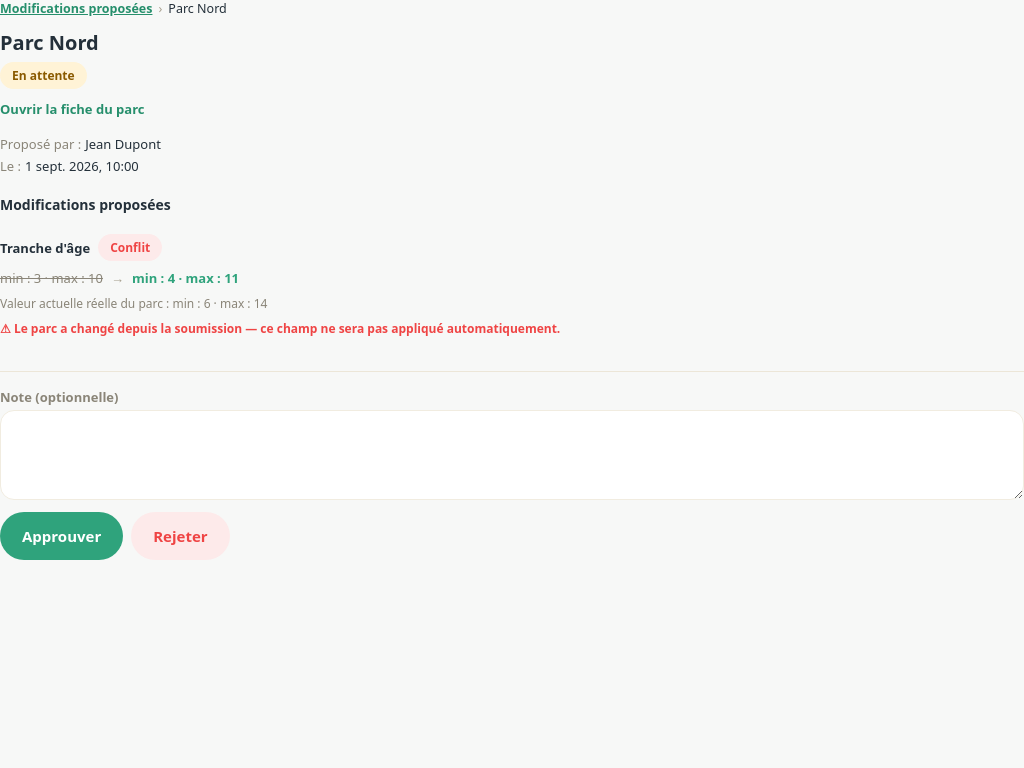
Scenario: ValidationDetail — Admin-3B-2 › requires_manual_review reste affiché comme un résultat normal, pas une exception
Expected: the heading "Parc Nord" is shown, [0,29,99,56]
Click the button "Approuver" at (62, 536), box [0,512,123,560]
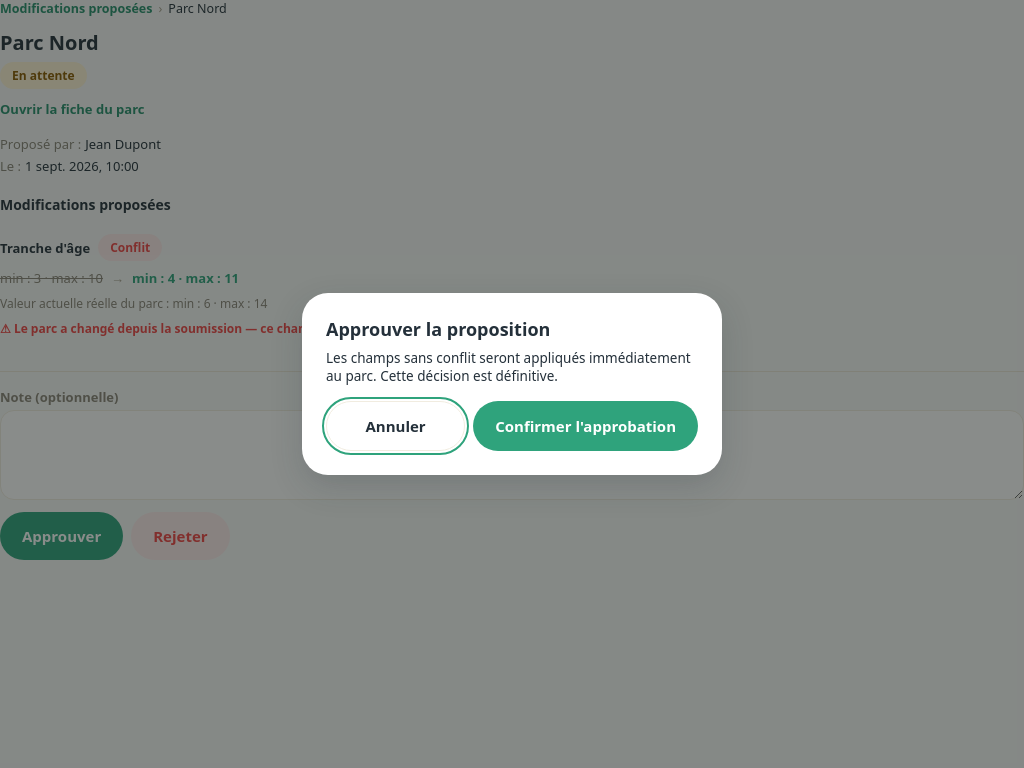
Result: the heading "Approuver la proposition" is shown at [326,317,550,341]
Click the button "Confirmer l'approbation" at (586, 426), box [473,401,698,451]
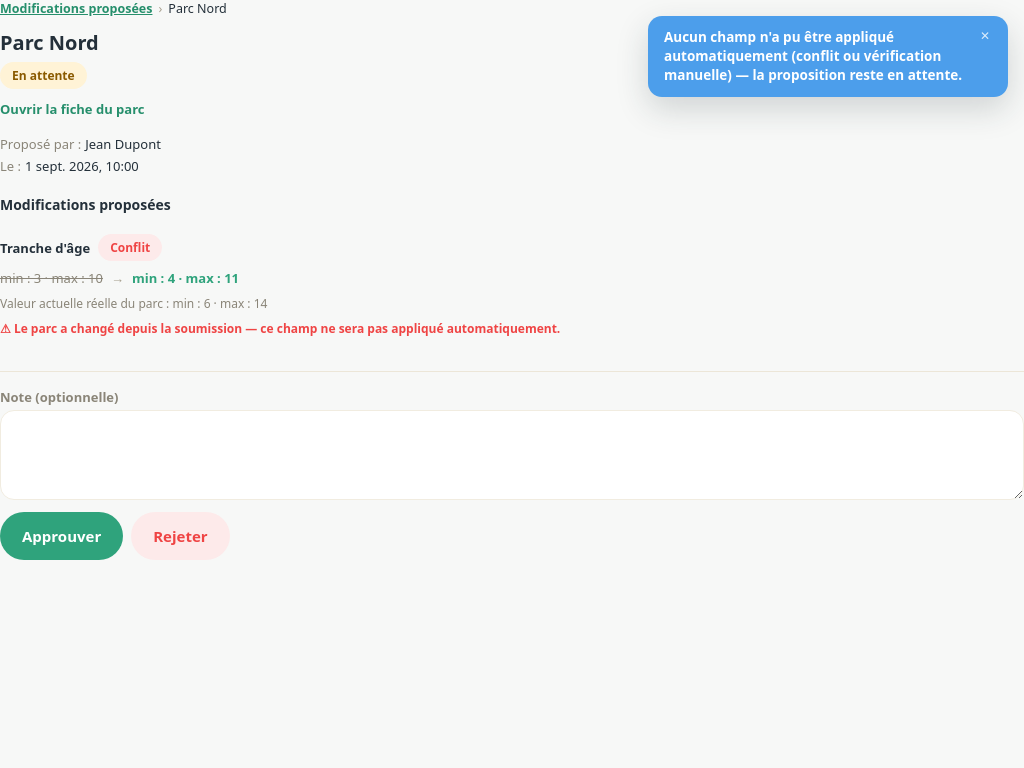
Result: the text "reste en attente" is shown at [664,28,962,84]
